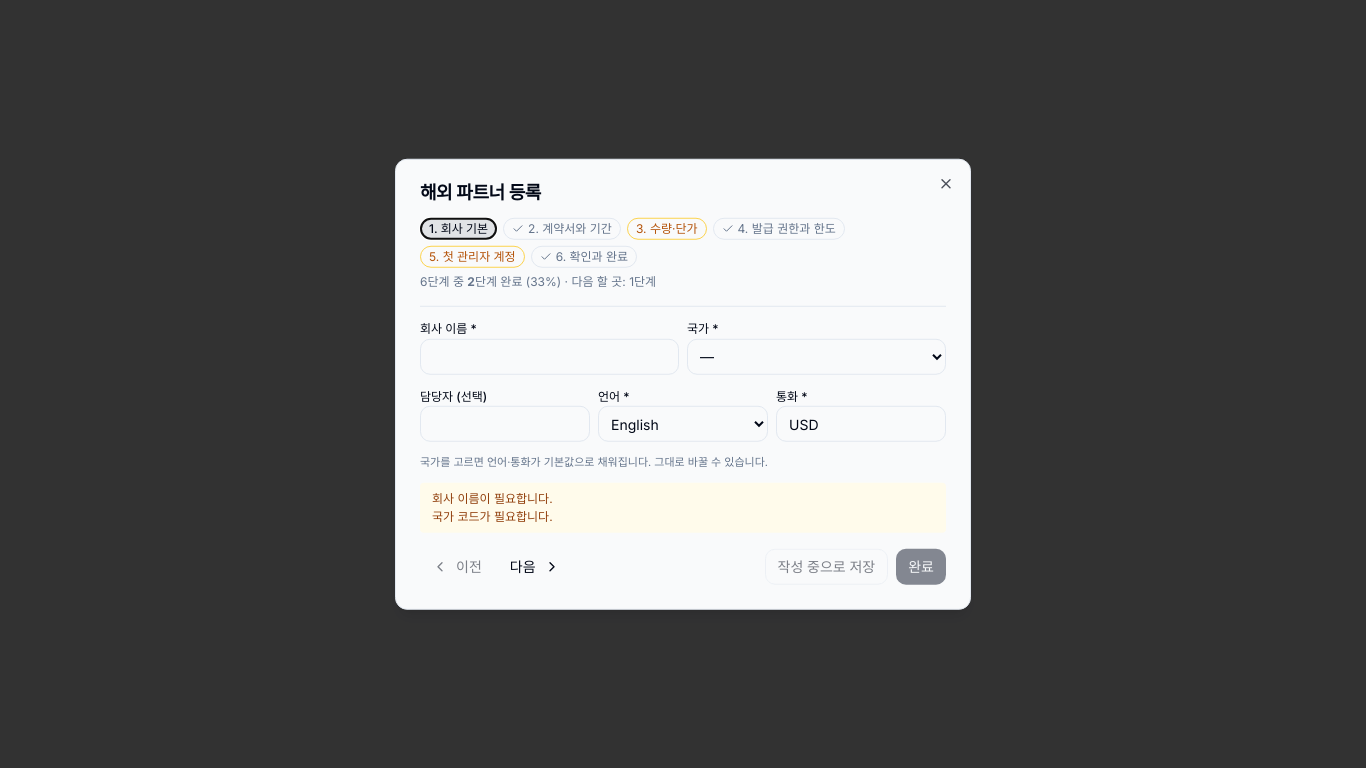
마법사 화면 › 6단계가 **무엇이 비었는지** 단계 번호로 알려 준다
This screenshot has width=1366, height=768.
Click the button "6. 확인과 완료". click: click(584, 257)
box: [531,246,637,268]
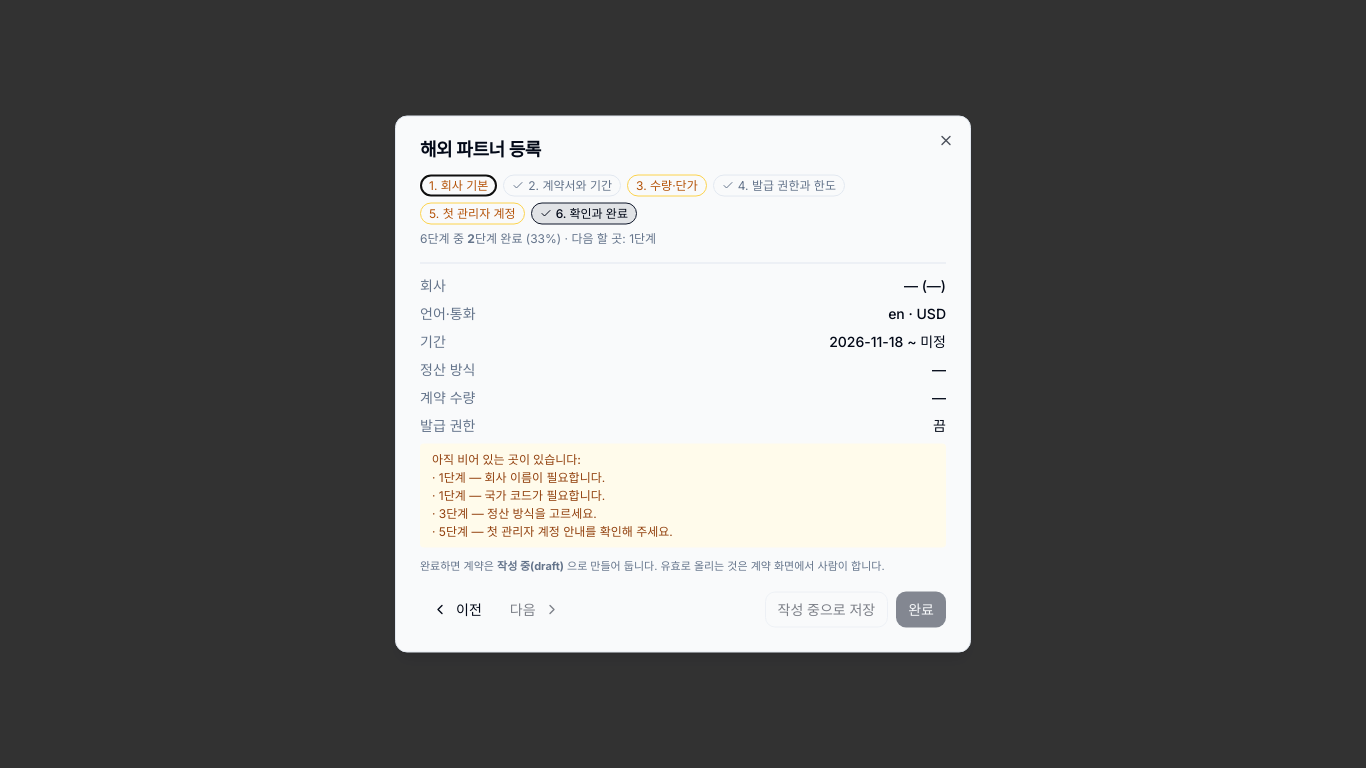
Now the text "아직 비어 있는 곳이 있습니다:" is shown, box [432,452,581,466]
Now the text "· 1단계 — 회사 이름이 필요합니다." is shown, box [432,470,605,484]
